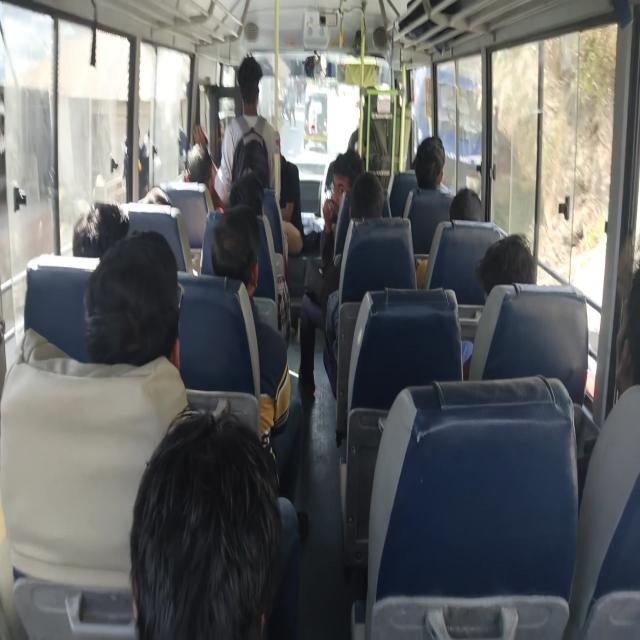person: (129, 408, 283, 636), (567, 254, 640, 631), (83, 229, 181, 370), (327, 171, 392, 362), (402, 138, 456, 250), (209, 204, 261, 293), (474, 232, 536, 299), (613, 255, 640, 402), (73, 200, 131, 260), (259, 142, 304, 212), (412, 135, 447, 192), (350, 170, 384, 220), (228, 172, 266, 214), (180, 142, 212, 191), (448, 186, 483, 222), (237, 54, 263, 96), (140, 186, 173, 206)
